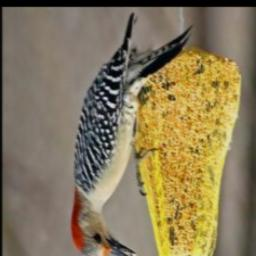Woodpecker: (54, 16, 199, 256)
